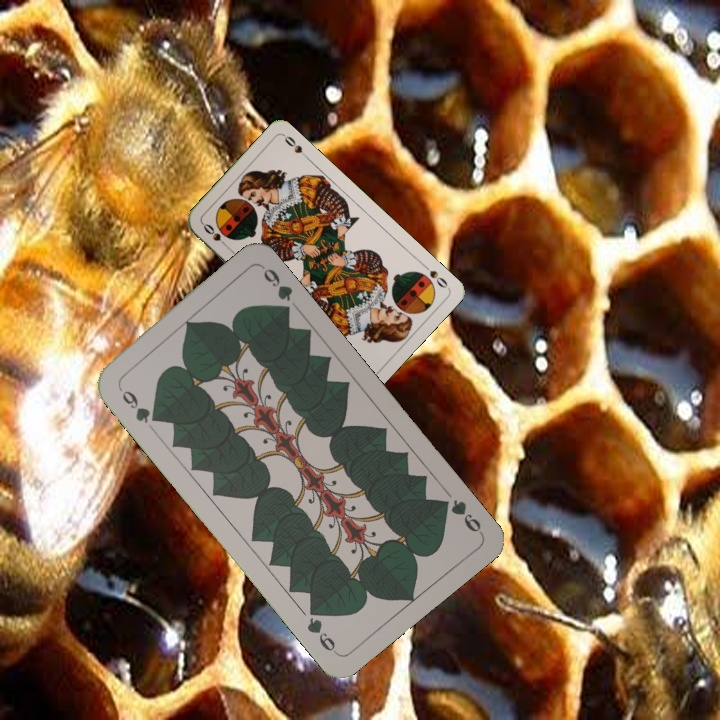G9: (113, 381, 162, 426), (434, 495, 485, 536)
SO: (198, 219, 231, 251), (418, 260, 450, 291)
